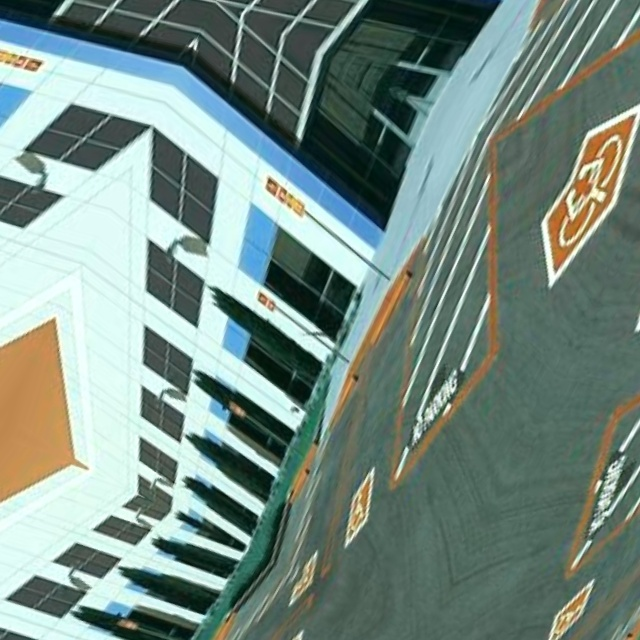ISA: (539, 180, 612, 264), (570, 118, 640, 201), (336, 485, 379, 537), (546, 592, 590, 640), (299, 560, 320, 583), (291, 577, 311, 599), (637, 230, 640, 314), (259, 636, 302, 640)
